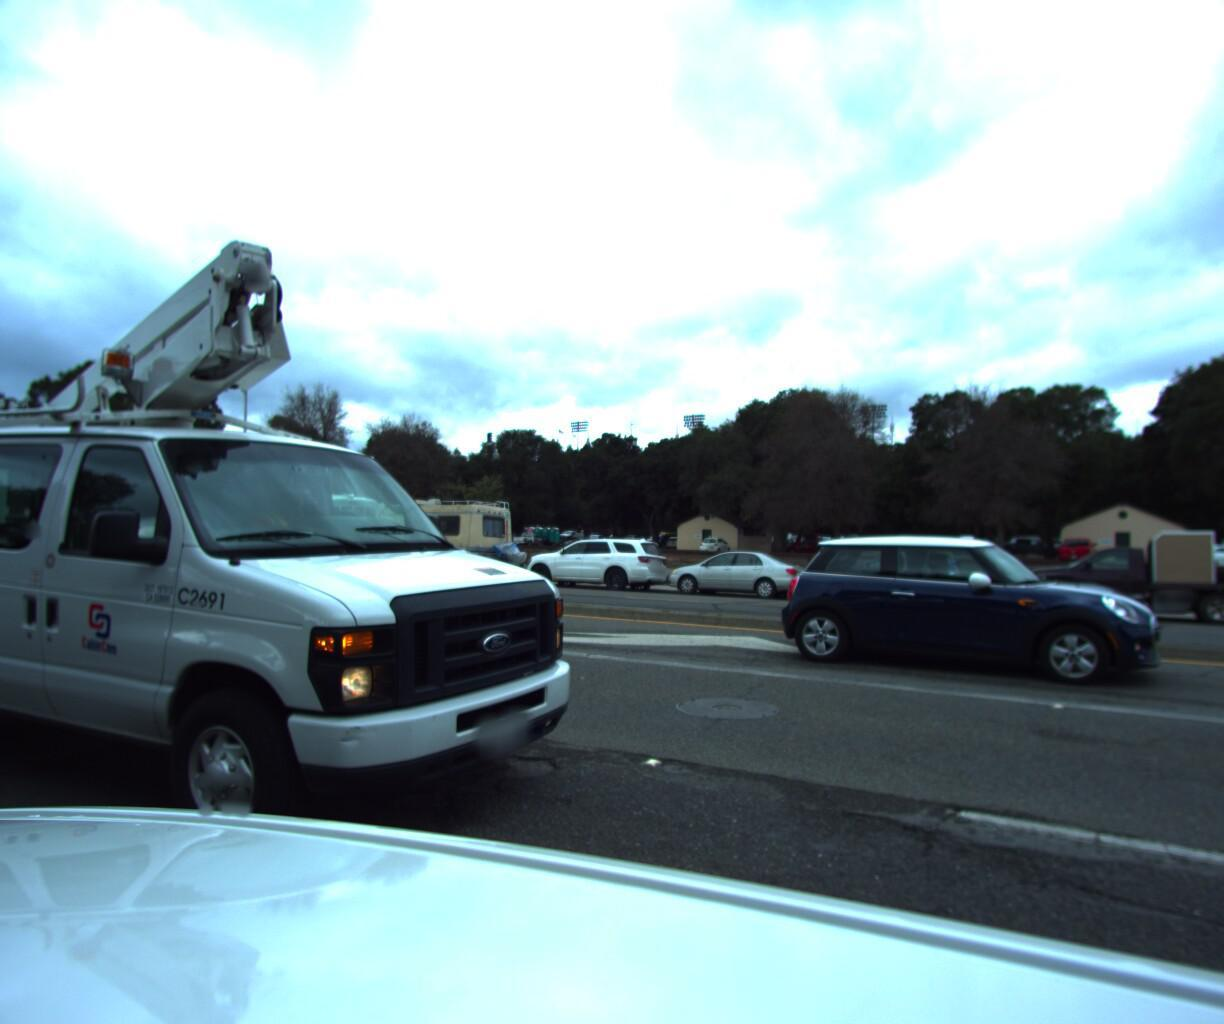car: (776, 527, 1173, 689), (1002, 521, 1224, 626), (515, 529, 673, 590), (658, 543, 813, 596)
other_vehicle: (0, 178, 588, 896), (301, 490, 534, 583)
truck: (0, 379, 510, 638)
